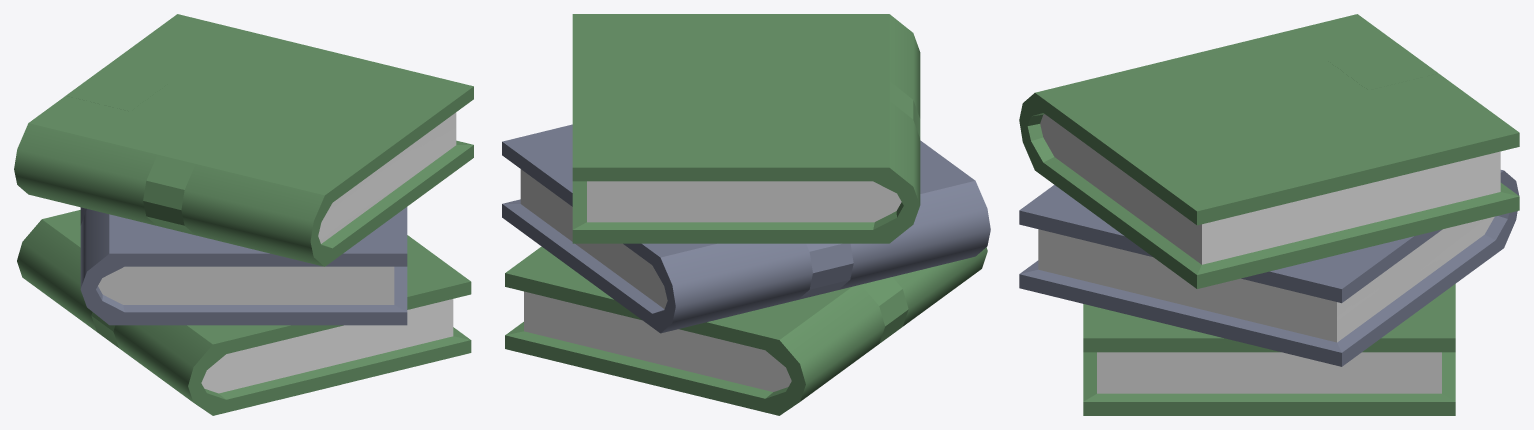
File: Books.fbx
The picture shows the model from 3 angles, left to right: view 1: azimuth 30°, elevation 25°; view 2: azimuth 150°, elevation 25°; view 3: azimuth 270°, elevation 25°; orthographic projection. The views are drawn at different scales.
Parts seen in each view (by area): view 1: pasted__pCube25; view 2: pasted__pCube25; view 3: pasted__pCube25.
Part boxes in pixels (x1=…): pasted__pCube25: x1=14, y1=14, x2=473, y2=415; pasted__pCube25: x1=502, y1=14, x2=990, y2=415; pasted__pCube25: x1=1019, y1=14, x2=1519, y2=415.
Size of the model in its own units: 0.3086 by 0.1611 by 0.3124.
